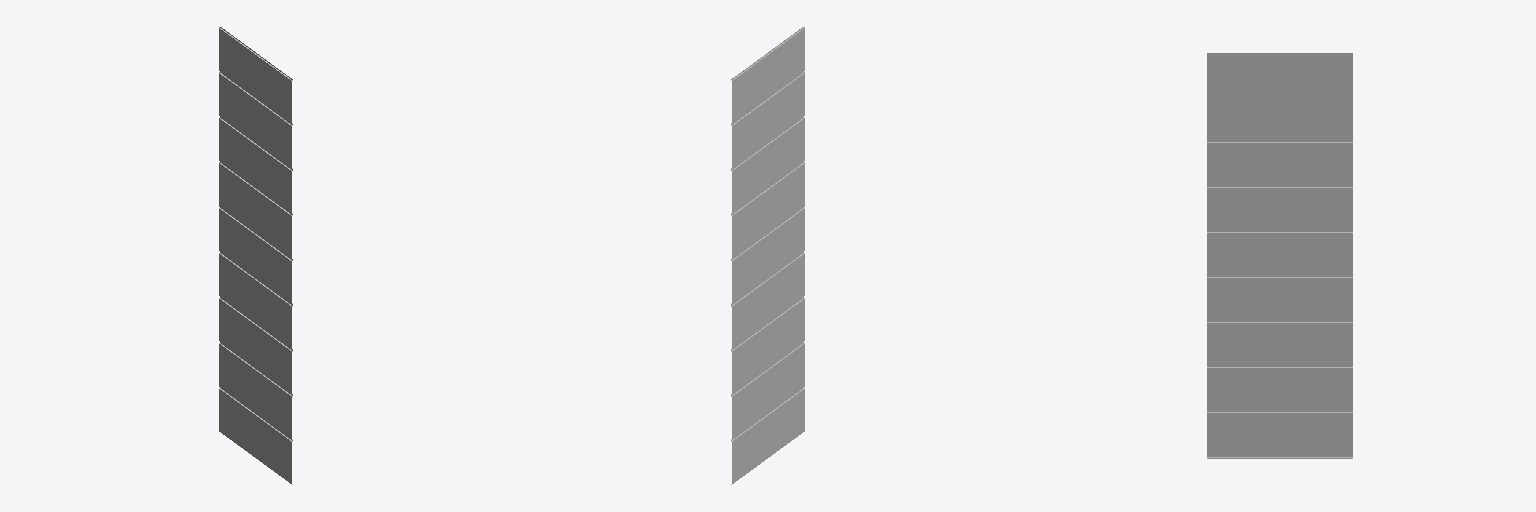
Rendered from skyscraper_glass.obj.
The picture shows the model from 3 angles: view 1: azimuth 30°, elevation 25°; view 2: azimuth 150°, elevation 25°; view 3: azimuth 270°, elevation 25°; orthographic projection.
Parts seen in each view (by area): view 1: Skyscraper_Glass_Plane; view 2: Skyscraper_Glass_Plane; view 3: Skyscraper_Glass_Plane.
Boxes of the visible parts, <box> form: Skyscraper_Glass_Plane: <box>219,27,292,484</box>; Skyscraper_Glass_Plane: <box>731,27,804,484</box>; Skyscraper_Glass_Plane: <box>1207,53,1352,458</box>.
Bounding box in the file's own units: 0.3012 × 86.78 × 28.45.